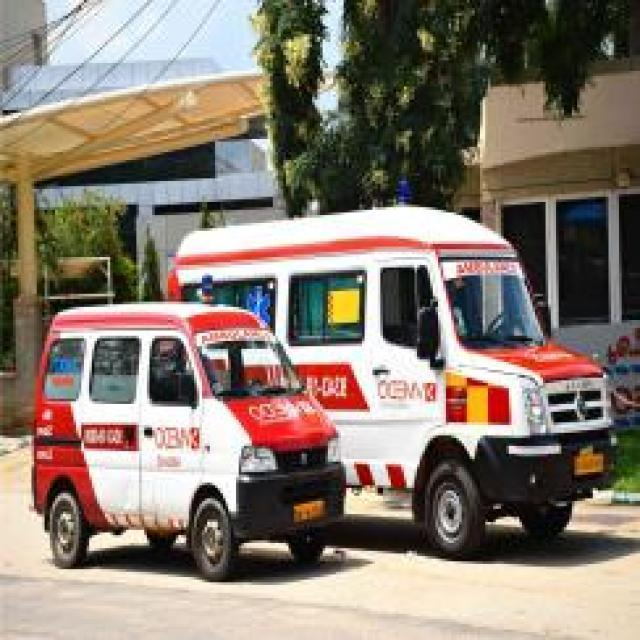Ambulance: (21, 189, 624, 585), (0, 432, 637, 637), (26, 296, 349, 582)
